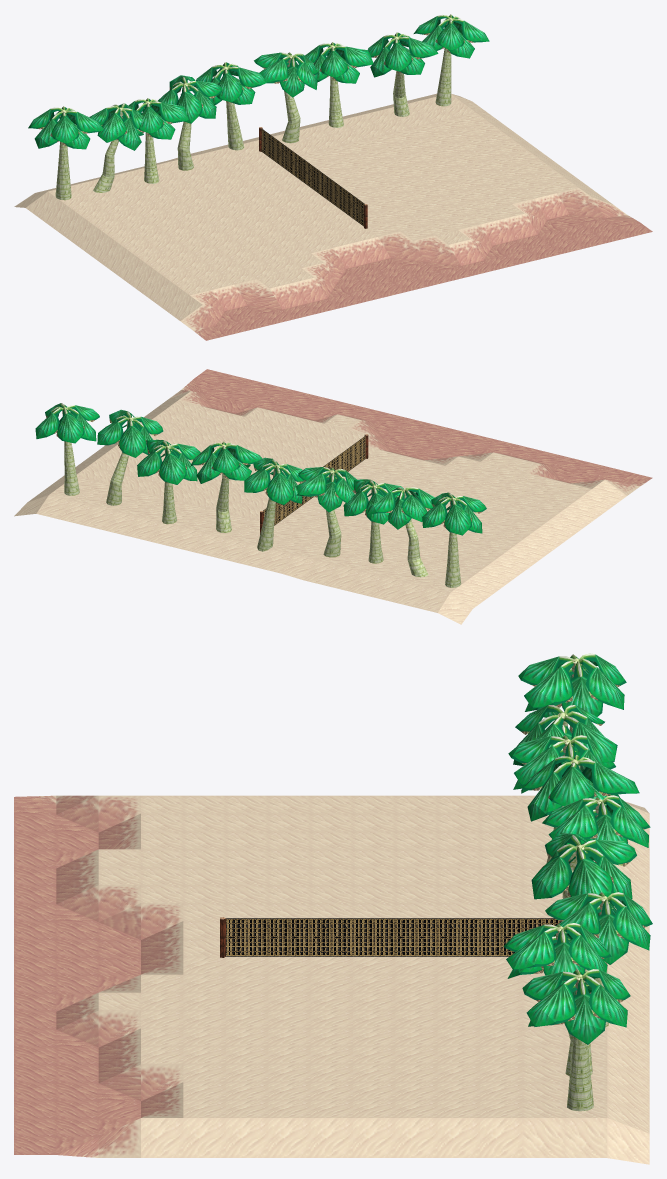
The model's file is Beach_Stage.glb.
3 renders of one model, top to bottom at view 1: azimuth 30°, elevation 25°; view 2: azimuth 150°, elevation 25°; view 3: azimuth 270°, elevation 25°, orthographic. The views are drawn at different scales.
Parts seen in each view (by area): view 1: Beach, Tree_1, Tree_6, Net, Tree_9, Tree_5, Tree_7, Tree_4, Tree_3, Tree_10, Tree_8; view 2: Beach, Tree_5, Tree_1, Tree_6, Tree_4, Tree_3, Tree_7, Tree_9, Tree_10, Tree_8, Net; view 3: Beach, Net, Tree_9, Tree_5, Tree_1, Tree_6, Tree_7, Tree_3, Tree_4, Tree_10, Tree_8.
Boxes of the visible parts, x1,y1,x2,y2 form: Beach: (14,93,652,340); Tree_1: (28,106,103,200); Tree_6: (368,32,438,116); Net: (259,127,367,228); Tree_9: (413,14,489,106); Tree_5: (254,52,318,143); Tree_7: (298,42,373,127); Tree_4: (195,62,267,150); Tree_3: (156,75,222,170); Tree_10: (89,103,143,192); Tree_8: (122,98,188,183); Beach: (14,369,652,624); Tree_5: (190,441,262,532); Tree_1: (422,492,486,587); Tree_6: (97,409,163,505); Tree_4: (244,457,304,551); Tree_3: (296,467,356,557); Tree_7: (137,439,200,524); Tree_9: (35,403,99,495); Tree_10: (367,487,434,577); Tree_8: (343,479,403,563); Net: (260,434,368,534); Beach: (14,795,649,1164); Net: (220,917,560,957); Tree_9: (522,969,630,1111); Tree_5: (531,832,636,971); Tree_1: (518,653,626,733); Tree_6: (503,923,611,1076); Tree_7: (545,892,652,1026); Tree_3: (521,755,639,898); Tree_4: (542,795,650,863); Tree_10: (513,705,617,765); Tree_8: (508,735,615,863).
Bounding box in the file's own units: 40 × 9.08 × 30.16.
Materials: 3 (3 with a texture image).
